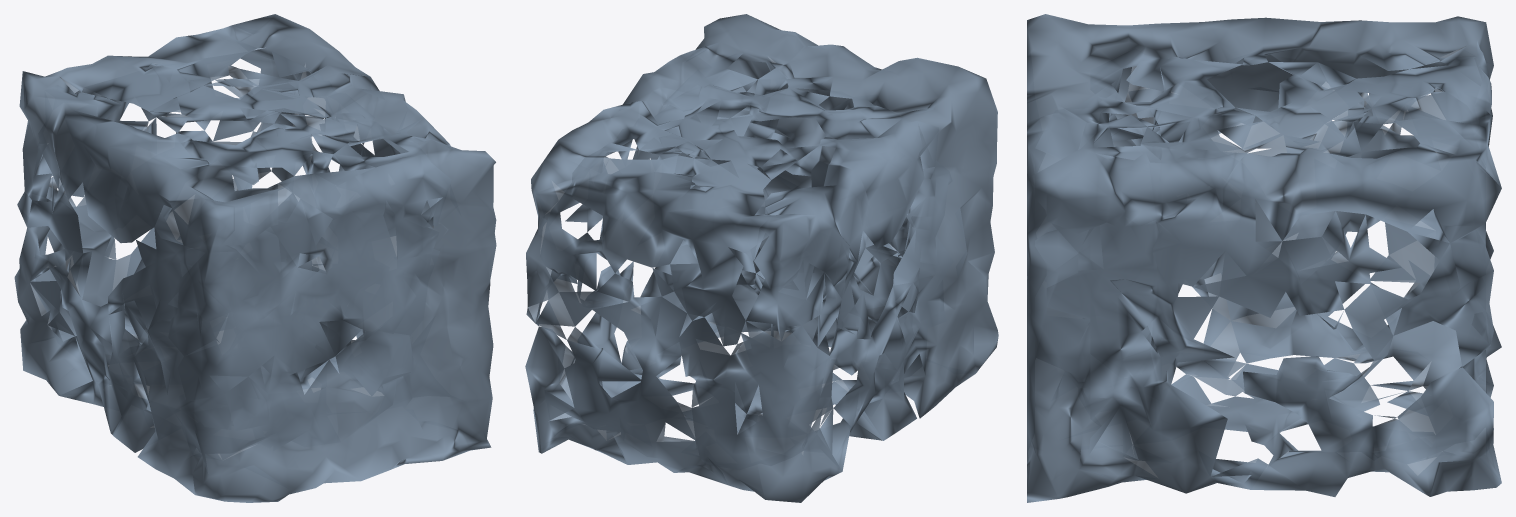
Rendered from sample_633_orig.obj.
The picture shows the model from 3 angles, left to right: view 1: azimuth 30°, elevation 25°; view 2: azimuth 150°, elevation 25°; view 3: azimuth 270°, elevation 25°; orthographic projection. The views are drawn at different scales.
Size of the model in its own units: 1.08 by 1.03 by 1.29.
